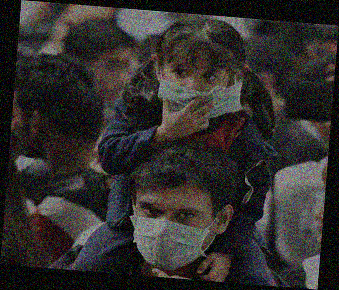with_mask: (133, 202, 212, 270), (161, 63, 231, 118)
